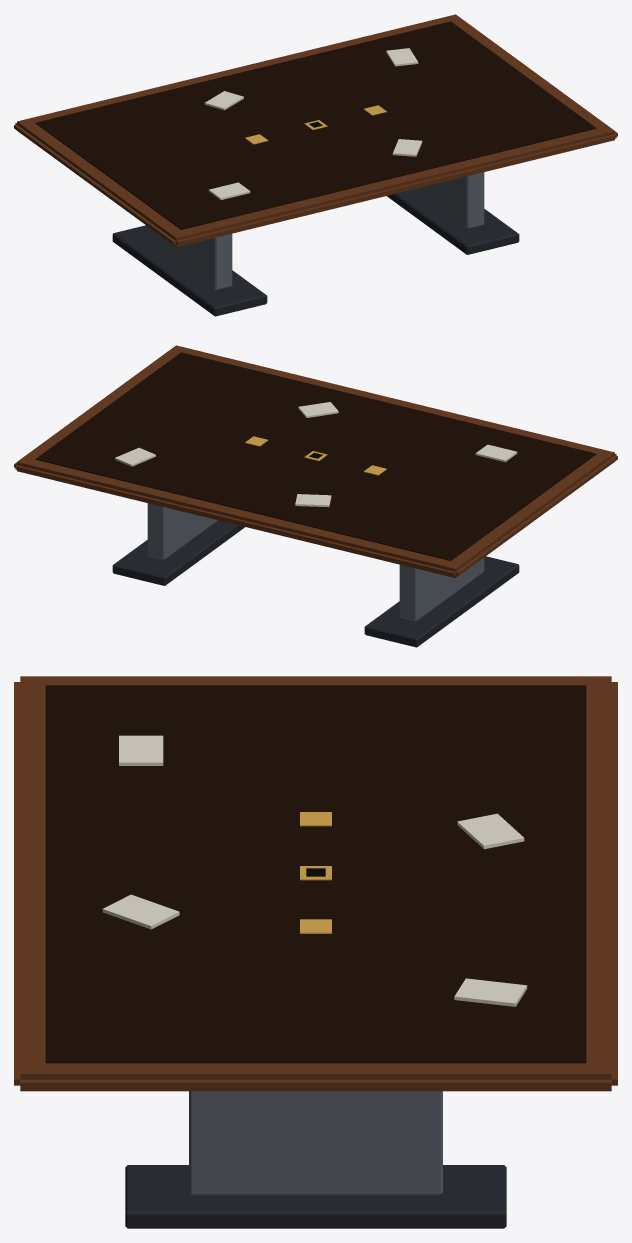
Rendered from meeting_table.glb.
3 views of the same model, one above another, from view 1: azimuth 30°, elevation 25°; view 2: azimuth 150°, elevation 25°; view 3: azimuth 270°, elevation 25° (orthographic). The views are drawn at different scales.
Parts seen in each view (by area): view 1: meeting_table; view 2: meeting_table; view 3: meeting_table.
Boxes of the visible parts, left/top/right/bottom form: meeting_table: left=14, top=14, right=617, bottom=316; meeting_table: left=14, top=345, right=617, bottom=647; meeting_table: left=14, top=676, right=617, bottom=1228.
Size of the model in its own units: 3 by 0.768 by 1.9.
